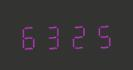five: (90, 19, 113, 49)
six: (18, 20, 41, 50)
three: (42, 20, 65, 50)
two: (66, 19, 89, 49)
